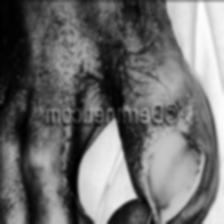Toxin: (58, 38, 100, 97)
